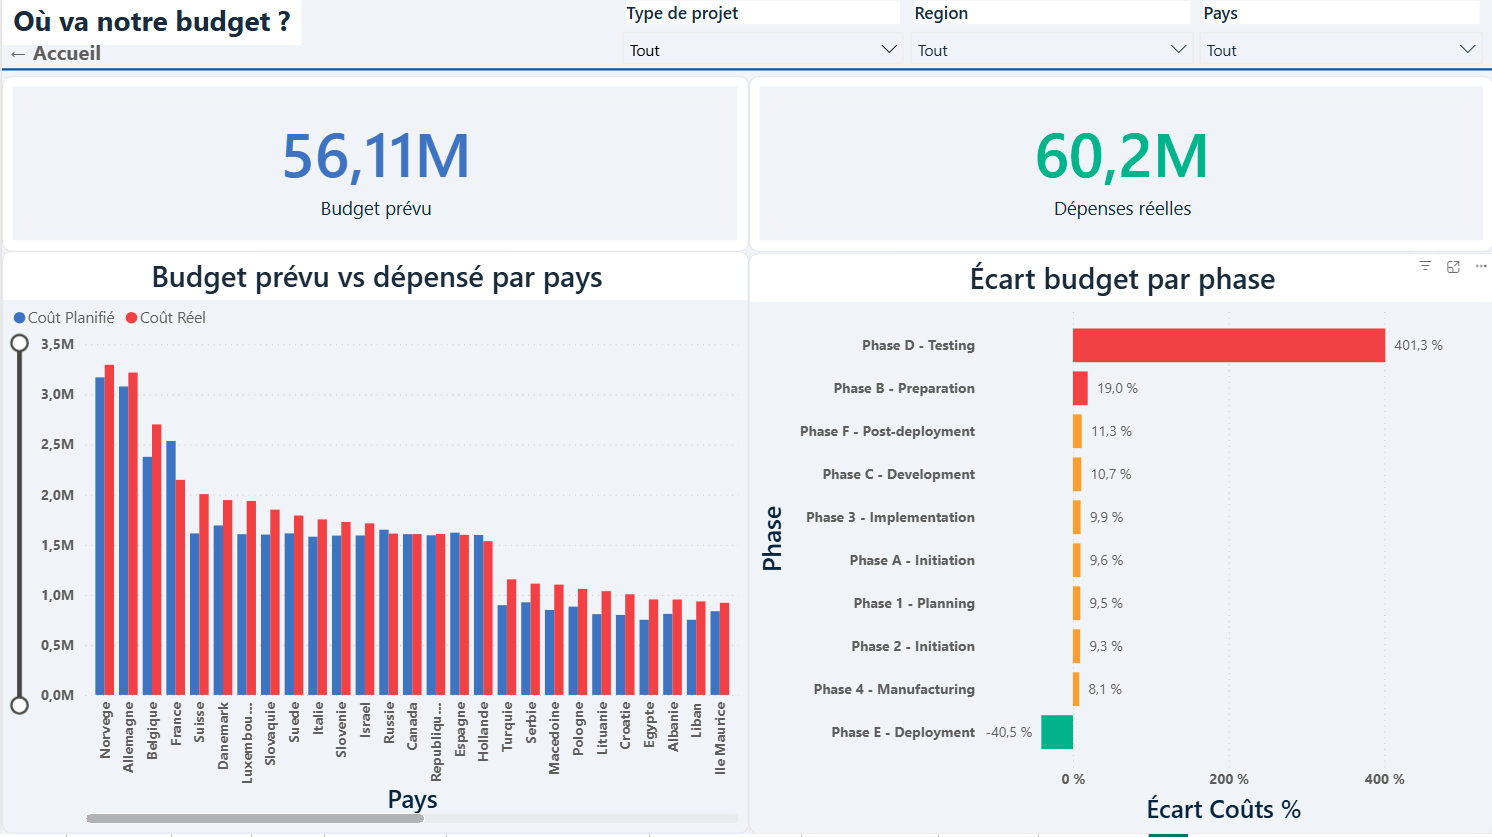

The page's visual inventory and layout, read from the dashboard file:
{"tool":"powerbi","page":{"name":"Budget","canvas":[1280,720],"ordinal":2},"visuals":[{"type":"textbox","box":[0,0,257,42.8],"z":0},{"type":"slicer","fields":{"Values":["Project type.Type_Simple"]},"box":[522.5,0,261.2,70],"z":1000},{"type":"slicer","fields":{"Values":["Country_Profiles.Region"]},"box":[770,0,262.5,70],"z":2000},{"type":"slicer","fields":{"Values":["Projects_Locations.Country"]},"box":[1017.5,0,262.5,70],"z":3000},{"type":"cardVisual","fields":{"Data":["Mesures.Coût Planifié Total"]},"box":[0,69.8,640.7,150.9],"z":4000},{"type":"cardVisual","fields":{"Data":["Mesures.Coût Réel Total"]},"box":[640.7,69.8,639.3,150.9],"z":5000},{"type":"clusteredColumnChart","title":"Budget prévu vs dépensé par pays","fields":{"Category":["Projects_Locations.Country"],"Y":["Mesures.Coût Planifié Total","Mesures.Coût Réel Total"]},"box":[0,220,641.4,500.3],"z":6000},{"type":"clusteredBarChart","title":"Écart budget par phase","fields":{"Category":["Projects_plans.Phase"],"Y":["Mesures.Écart Coûts %"]},"box":[641,221,639,499],"z":7000},{"type":"shape","box":[0,57.3,1280,12.7],"z":8000},{"type":"actionButton","title":"Accueil","box":[0,26.7,91.6,43.3],"z":9000}]}

Visuals, with their boxes in screenshot pixels (x1, y1, x2, y2), scaled from the page's 1280x720 canvas onto the 1492x837 screenshot:
textbox: bbox(0, 0, 300, 50)
slicer - Project type.Type_Simple: bbox(609, 0, 914, 81)
slicer - Country_Profiles.Region: bbox(898, 0, 1204, 81)
slicer - Projects_Locations.Country: bbox(1186, 0, 1491, 81)
cardVisual - Mesures.Coût Planifié Total: bbox(0, 81, 747, 257)
cardVisual - Mesures.Coût Réel Total: bbox(747, 81, 1491, 257)
"Budget prévu vs dépensé par pays" clusteredColumnChart: bbox(0, 256, 748, 836)
"Écart budget par phase" clusteredBarChart: bbox(747, 257, 1491, 836)
shape: bbox(0, 67, 1491, 81)
"Accueil" actionButton: bbox(0, 31, 107, 81)
